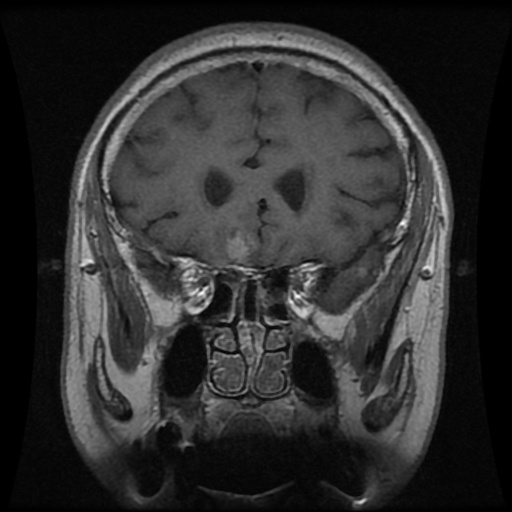pituitary: (225, 228, 252, 264)
